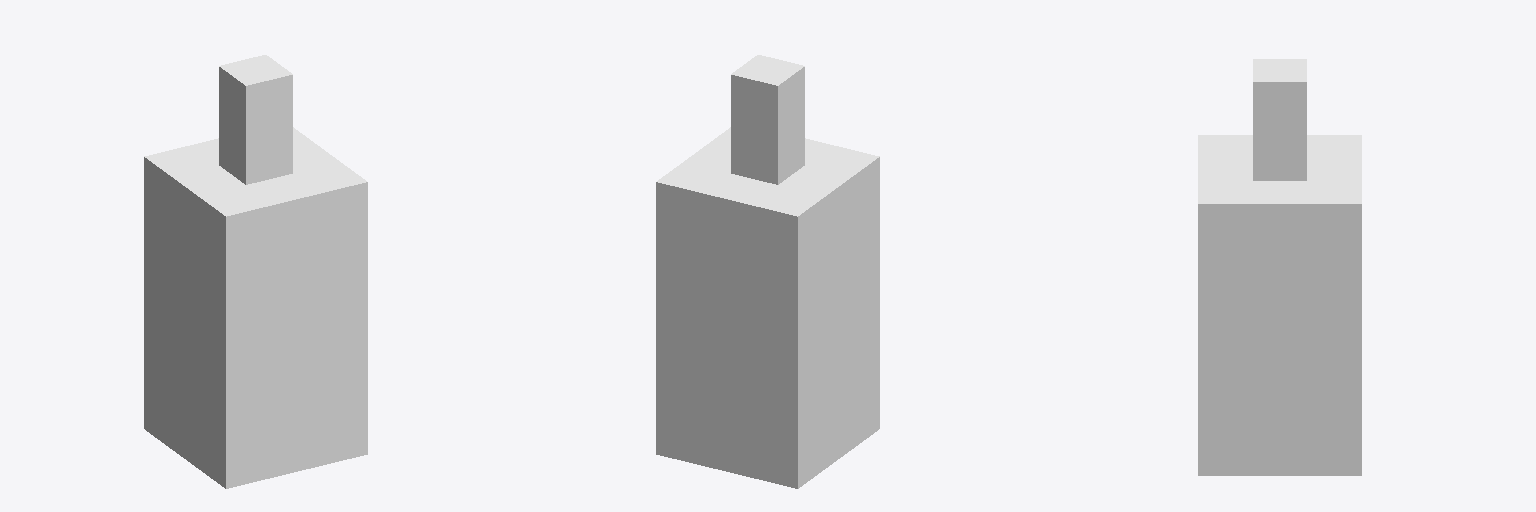
Rendered from CerObj.obj.
The picture shows the model from 3 angles: view 1: azimuth 30°, elevation 25°; view 2: azimuth 150°, elevation 25°; view 3: azimuth 270°, elevation 25°; orthographic projection.
Visible parts, largest first — view 1: object 1; view 2: object 1; view 3: object 1.
Part boxes in pixels (bbox=[...]): object 1: bbox=[144, 55, 367, 488]; object 1: bbox=[656, 55, 879, 488]; object 1: bbox=[1198, 59, 1361, 475].
Bounding box in the file's own units: 0.6 × 1.5 × 0.6.